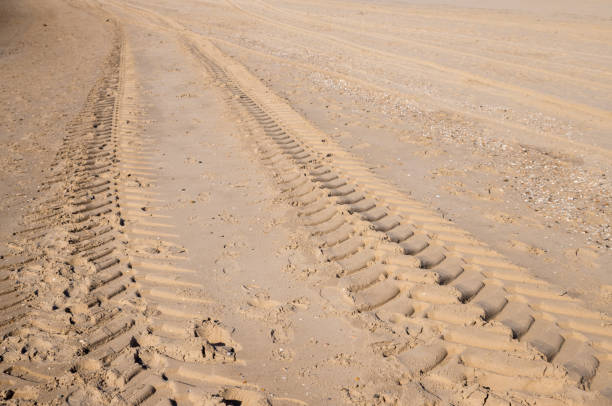vehicle_track: (187, 37, 611, 403), (0, 27, 268, 404)
